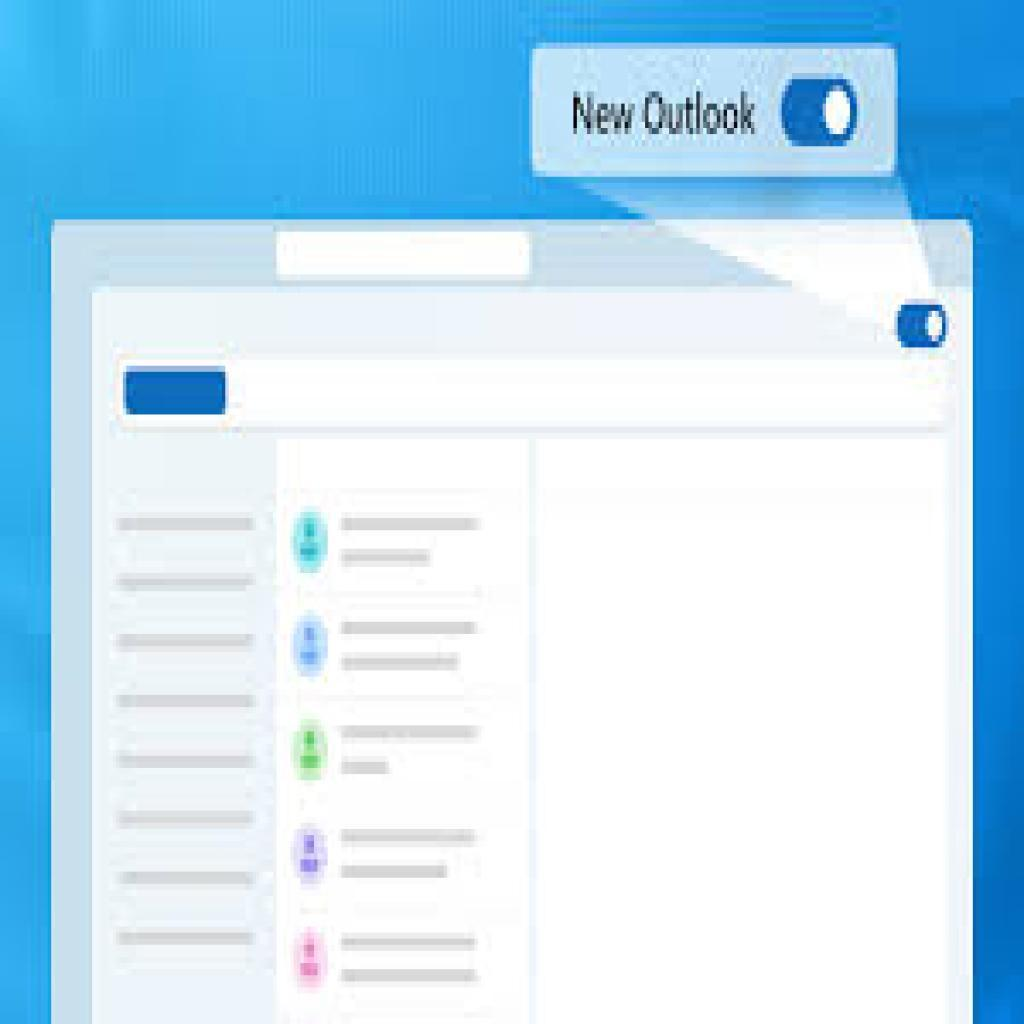switch: (779, 76, 863, 153), (895, 300, 954, 353)
